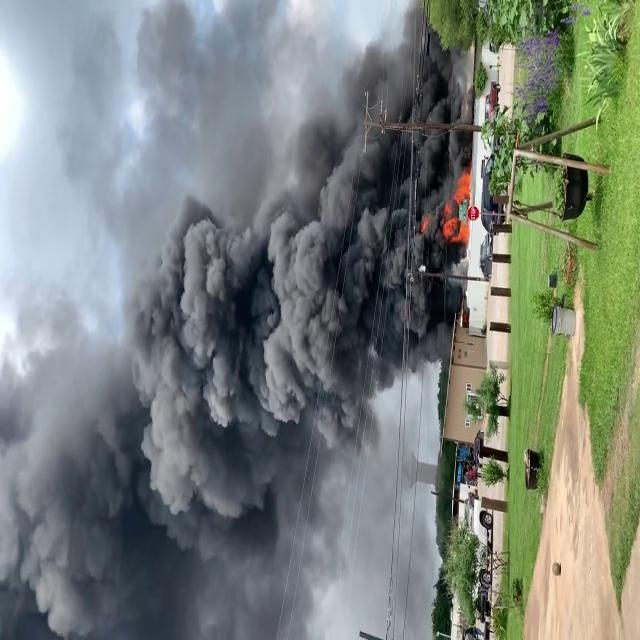Fire: (443, 171, 473, 248)
Smoke: (0, 0, 480, 635)
